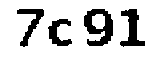1: (118, 6, 148, 51)
7: (13, 3, 45, 48)
9: (80, 8, 116, 51)
c: (46, 17, 75, 50)
